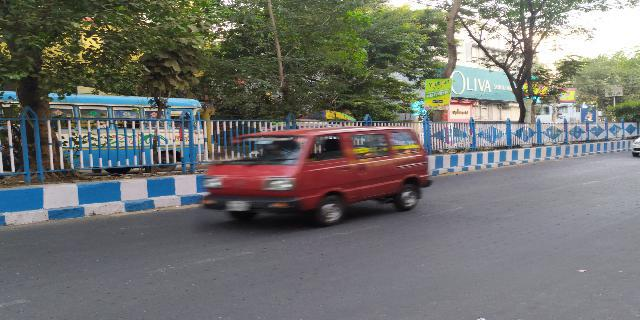Van: (193, 125, 437, 229)
